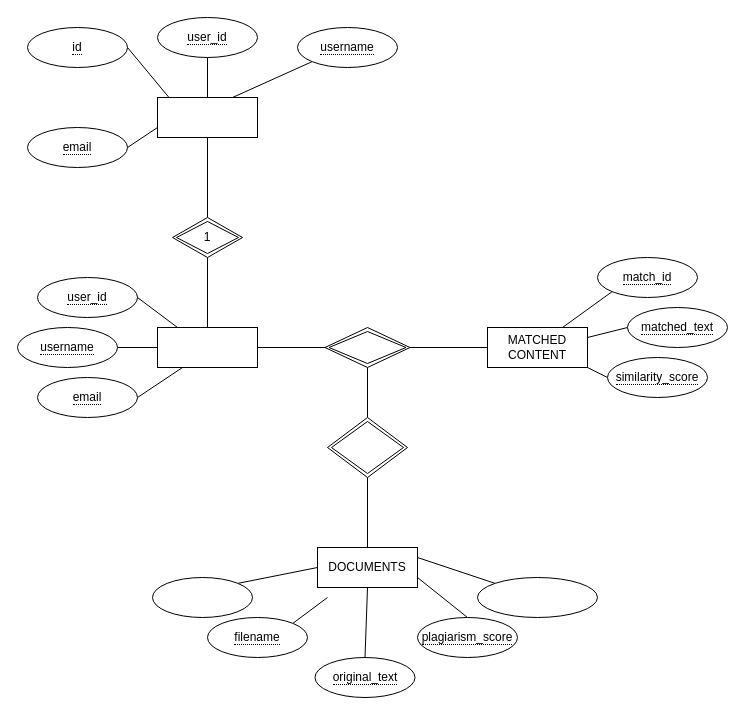
This 745x715 diagram has some shape labels left out. The centre of each missing label's shape, as x and y in pixels:
"ai_generated_score" goes at pixel 537 597.
"doc_id" goes at pixel 202 597.
"has many" goes at pixel 367 447.
"uploads" goes at pixel 367 347.
"USER" goes at pixel 207 347.
"users" goes at pixel 207 117.
